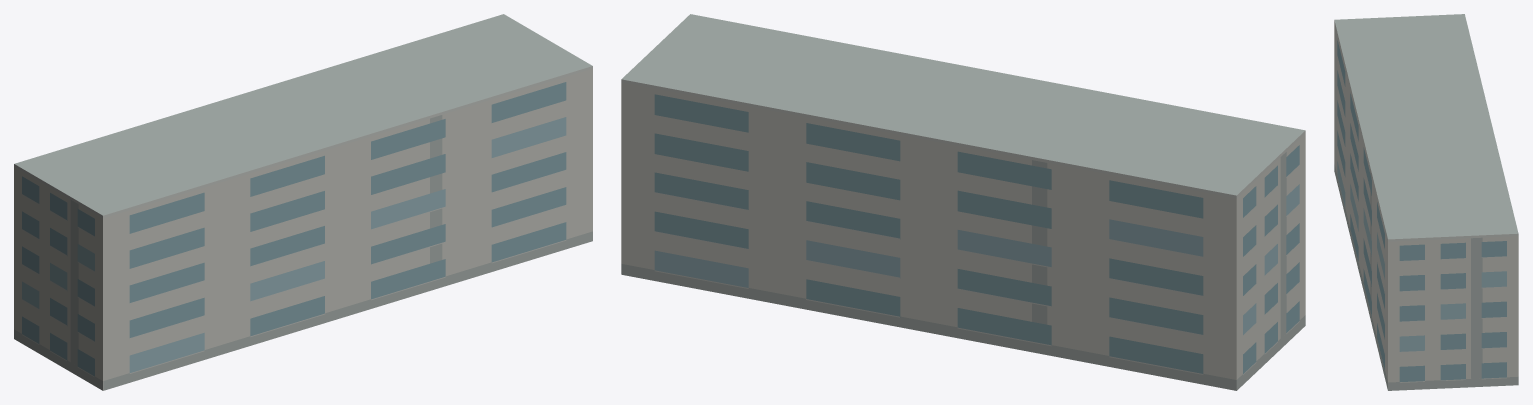
The model's file is residential-815831dd-bd22-4e97-a97c-8cc25370e920.glb.
The picture shows the model from 3 angles, left to right: view 1: azimuth 30°, elevation 25°; view 2: azimuth 150°, elevation 25°; view 3: azimuth 270°, elevation 25°; orthographic projection. The views are drawn at different scales.
Parts seen in each view (by area): view 1: residential-815831dd-bd22-4e97-a97c-8cc25370e920.tmp; view 2: residential-815831dd-bd22-4e97-a97c-8cc25370e920.tmp; view 3: residential-815831dd-bd22-4e97-a97c-8cc25370e920.tmp.
Part boxes in pixels (box(x1,y1,x2,y2)): residential-815831dd-bd22-4e97-a97c-8cc25370e920.tmp: box(14, 14, 592, 390); residential-815831dd-bd22-4e97-a97c-8cc25370e920.tmp: box(621, 14, 1305, 390); residential-815831dd-bd22-4e97-a97c-8cc25370e920.tmp: box(1334, 14, 1518, 390).
Size of the model in its own units: 48.68 by 15.25 by 16.82.
